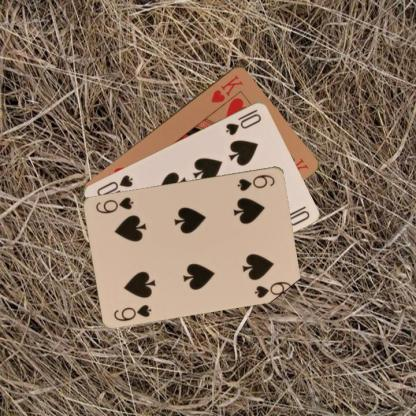10s: (222, 107, 263, 136)
6s: (111, 302, 153, 322), (235, 172, 276, 192)
Kh: (208, 72, 245, 104)
